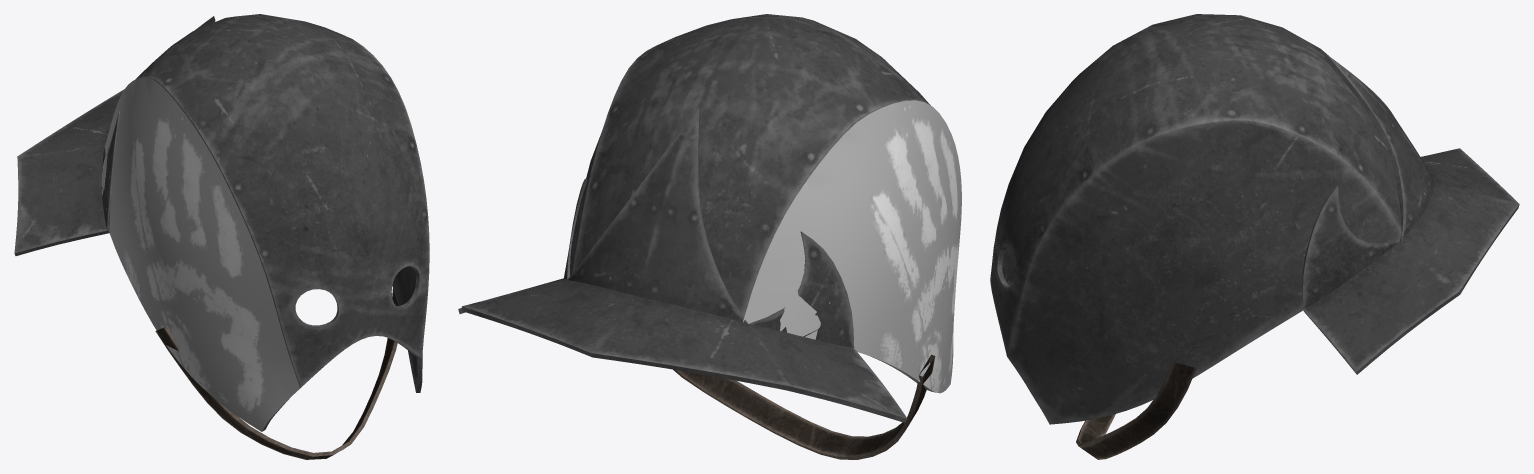
File: sk_uruk_hai_helmet_nazg_a3.fbx
3 renders of one model, left to right at view 1: azimuth 30°, elevation 25°; view 2: azimuth 150°, elevation 25°; view 3: azimuth 270°, elevation 25°, orthographic. The views are drawn at different scales.
Visible parts, largest first — view 1: sk_uruk_hai_helmet_nazg_a3.0, sk_uruk_hai_helmet_nazg_a3.1, sk_uruk_hai_helmet_nazg_a3.2; view 2: sk_uruk_hai_helmet_nazg_a3.0, sk_uruk_hai_helmet_nazg_a3.1, sk_uruk_hai_helmet_nazg_a3.2; view 3: sk_uruk_hai_helmet_nazg_a3.0, sk_uruk_hai_helmet_nazg_a3.2.
Boxes of the visible parts, bbox=[...] form: sk_uruk_hai_helmet_nazg_a3.0: bbox=[14, 14, 429, 431]; sk_uruk_hai_helmet_nazg_a3.1: bbox=[101, 77, 300, 431]; sk_uruk_hai_helmet_nazg_a3.2: bbox=[155, 288, 397, 459]; sk_uruk_hai_helmet_nazg_a3.0: bbox=[458, 14, 935, 422]; sk_uruk_hai_helmet_nazg_a3.1: bbox=[742, 100, 961, 393]; sk_uruk_hai_helmet_nazg_a3.2: bbox=[673, 354, 935, 459]; sk_uruk_hai_helmet_nazg_a3.0: bbox=[990, 14, 1519, 424]; sk_uruk_hai_helmet_nazg_a3.2: bbox=[1076, 362, 1195, 459].
Size of the model in its own units: 0.2893 by 0.3288 by 0.2916.
Materials: 3 (3 with a texture image).
